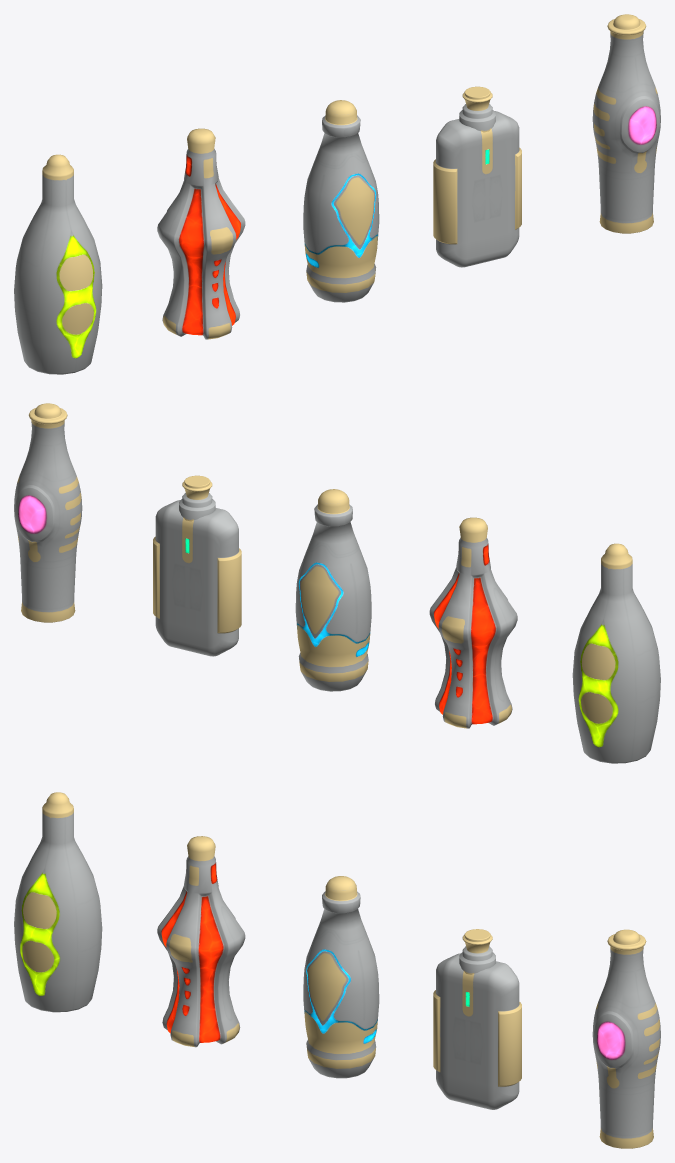
File: BarBottles02_1.FBX
3 renders of one model, top to bottom at view 1: azimuth 30°, elevation 25°; view 2: azimuth 150°, elevation 25°; view 3: azimuth 330°, elevation 25°, orthographic.
Parts seen in each view (by area): view 1: BarBottles02_1; view 2: BarBottles02_1; view 3: BarBottles02_1.
Boxes of the visible parts, left/top/right/bottom form: BarBottles02_1: left=14, top=14, right=660, bottom=374; BarBottles02_1: left=14, top=403, right=660, bottom=763; BarBottles02_1: left=14, top=792, right=660, bottom=1148.
Size of what is drawn, in the model's own units: 1.07 by 0.3307 by 0.1306.
